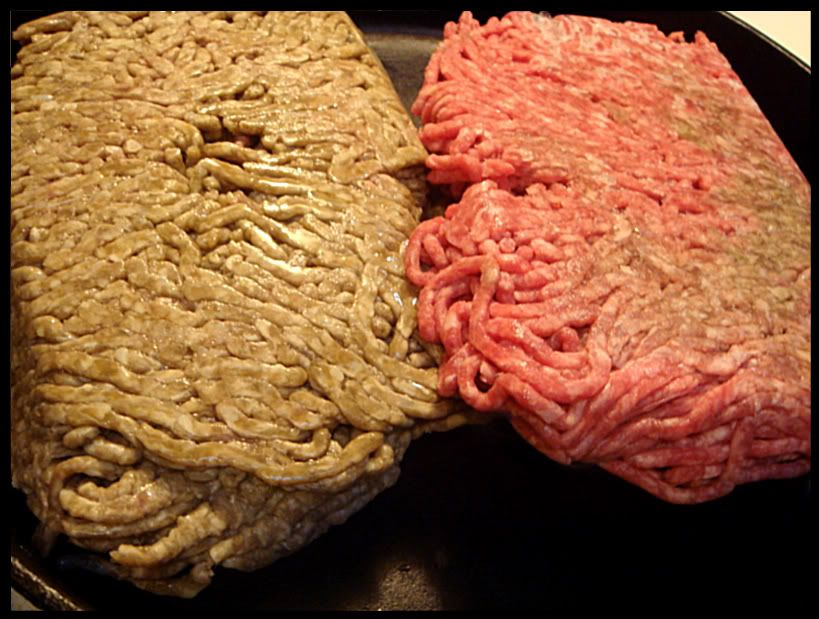ground_beef: (410, 4, 819, 449), (54, 42, 402, 463)
